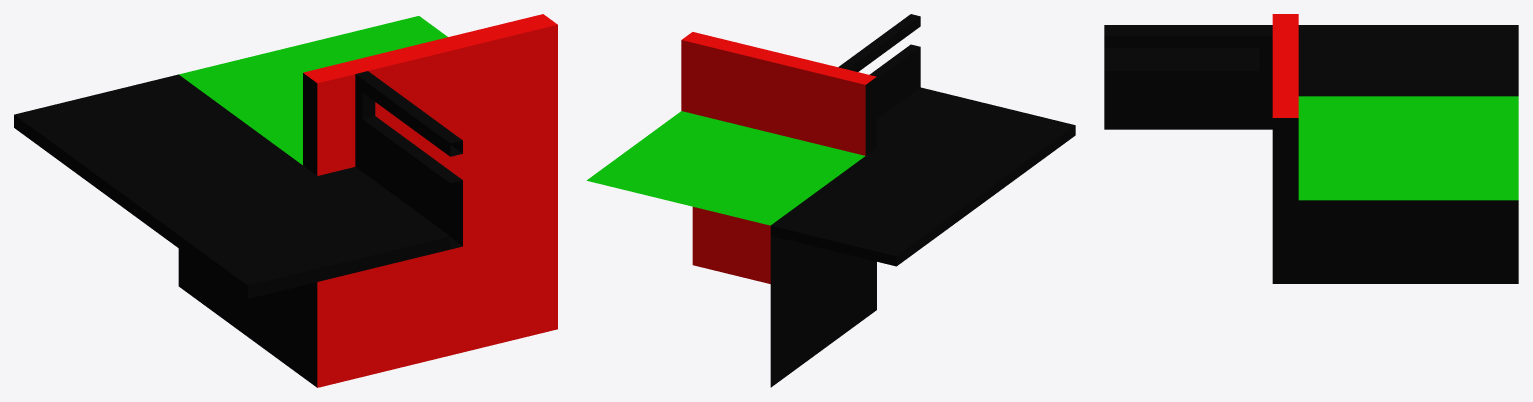
3 renders of one model, left to right at view 1: azimuth 30°, elevation 25°; view 2: azimuth 150°, elevation 25°; view 3: azimuth 270°, elevation 25°, orthographic. The views are drawn at different scales.
Parts seen in each view (by area): view 1: None_W_E_E_E_P_P_E_E_None; view 2: None_W_E_E_E_P_P_E_E_None; view 3: None_W_E_E_E_P_P_E_E_None.
Part boxes in pixels (left/top/right/bottom): None_W_E_E_E_P_P_E_E_None: left=14, top=14, right=557, bottom=387; None_W_E_E_E_P_P_E_E_None: left=587, top=14, right=1075, bottom=387; None_W_E_E_E_P_P_E_E_None: left=1104, top=14, right=1518, bottom=283.
Bounding box in the file's own units: 100 × 71.88 × 100.
